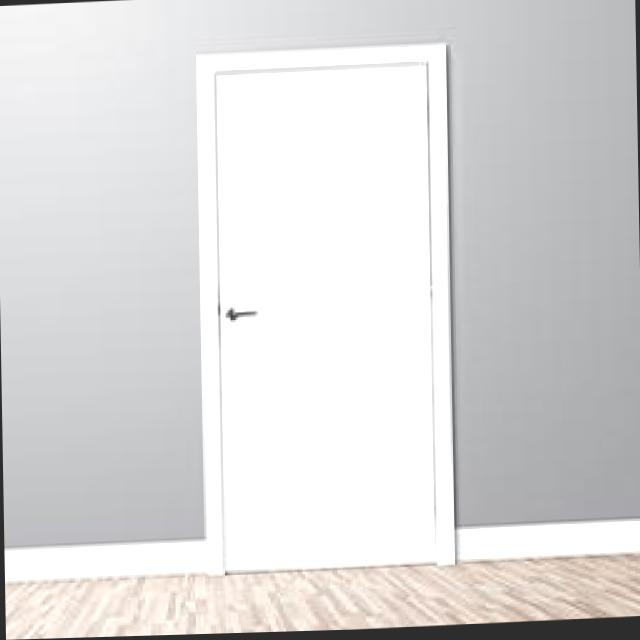close: (185, 34, 477, 601)
